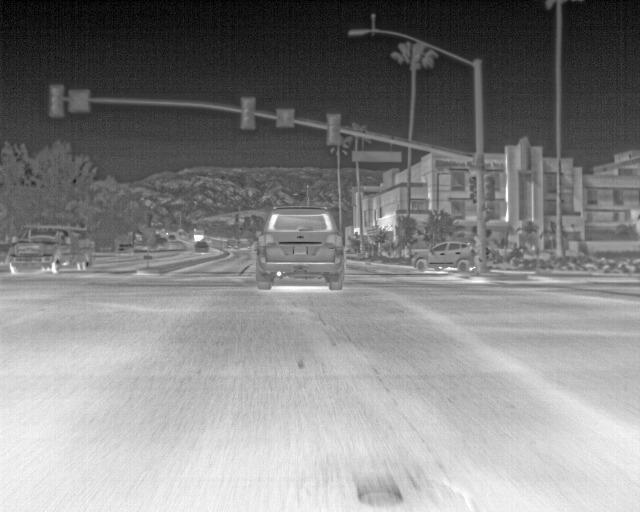car: (255, 206, 344, 291), (9, 224, 94, 276), (412, 241, 477, 272), (117, 243, 134, 256), (189, 228, 204, 242), (194, 241, 209, 253), (156, 238, 168, 251), (238, 239, 251, 249), (226, 240, 238, 249), (202, 237, 212, 243), (168, 235, 175, 240)
light: (484, 174, 495, 201), (243, 99, 253, 127), (51, 87, 61, 114), (330, 118, 339, 143), (469, 176, 477, 202)
sign: (352, 151, 402, 162), (69, 90, 89, 109), (277, 108, 294, 127), (142, 228, 155, 247), (144, 256, 152, 260)
